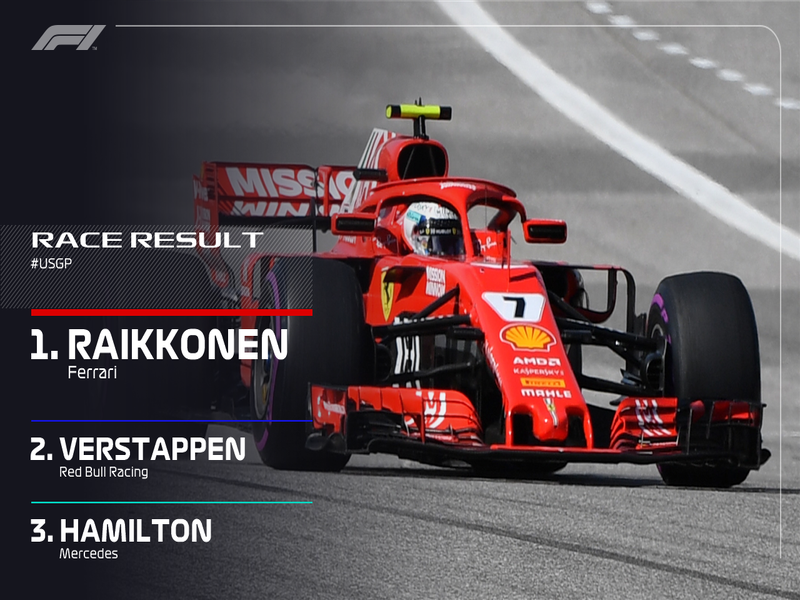f1: (202, 111, 767, 495)
